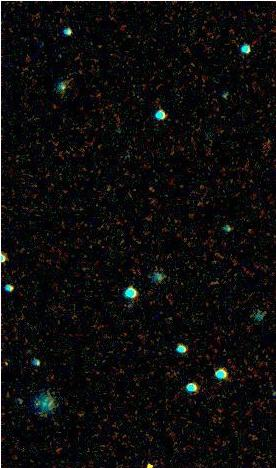star: (135, 447, 165, 468)
